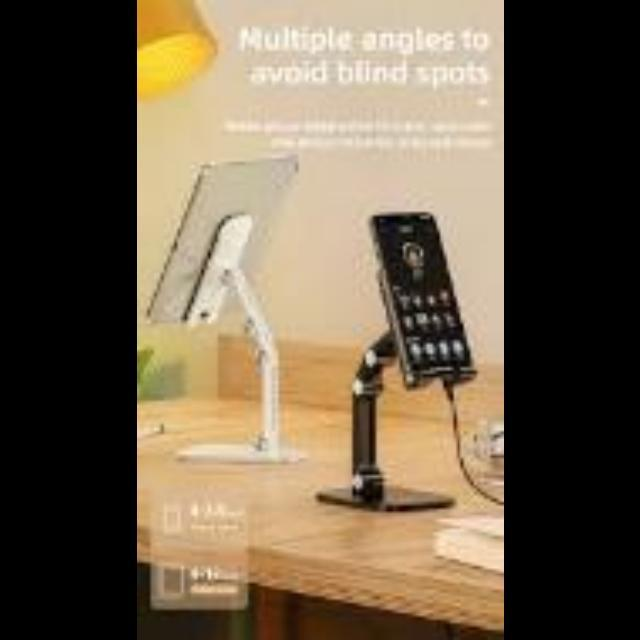Phone: (372, 214, 472, 372)
